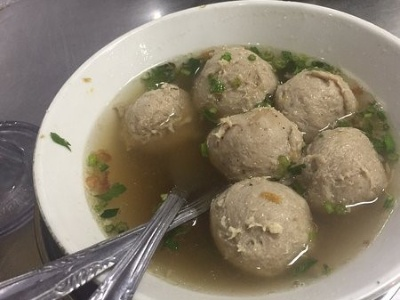bakso: (120, 41, 384, 275)
